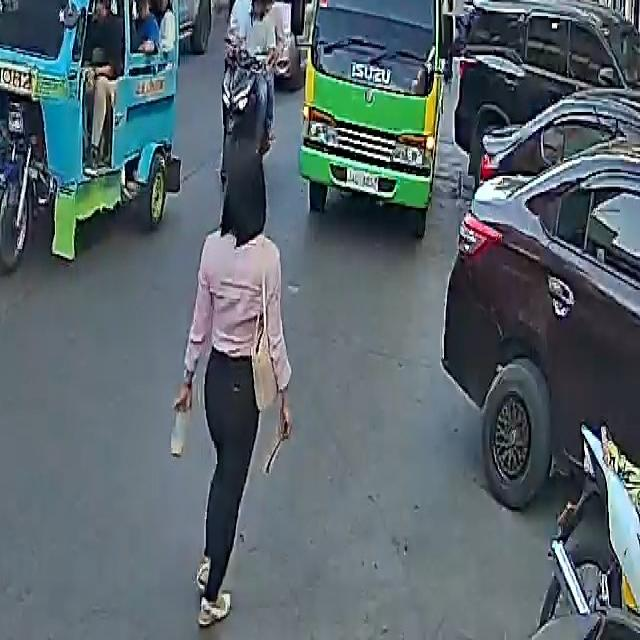car: (443, 68, 640, 532), (451, 0, 640, 185), (228, 0, 326, 85)
